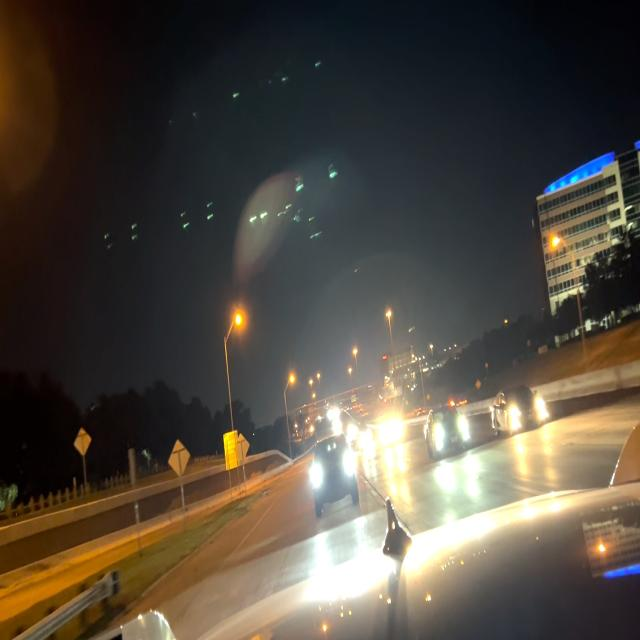back-of-sign: (170, 439, 191, 478), (224, 432, 241, 470), (74, 426, 91, 457), (235, 436, 251, 463)
